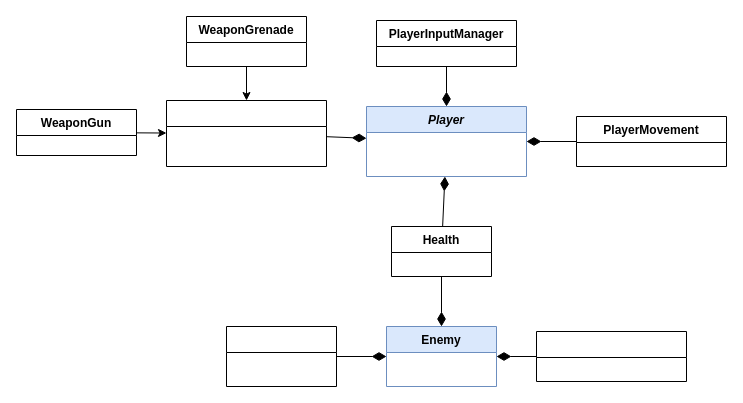
Image size: 743x403. Some labels were removed from this diagram. The centre of each missing label's shape, as x and y in pixels:
"AIAgent" belongs at point 281,356.
"EnemyMovement" belongs at point 611,356.
"WeaponManager" belongs at point 246,133.
